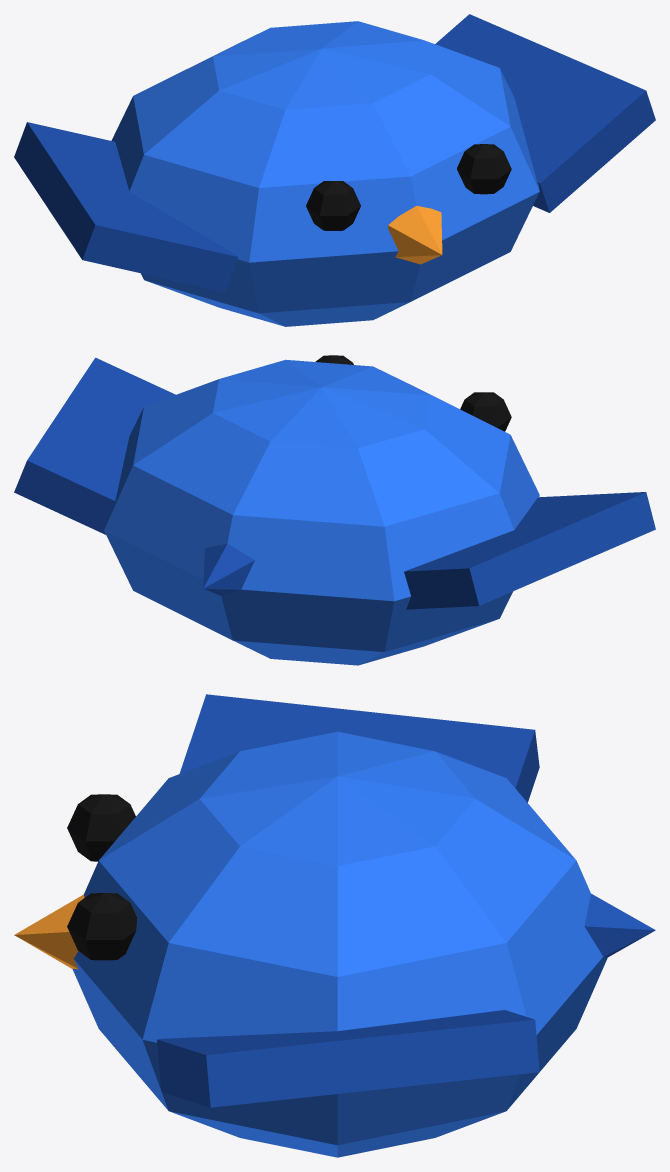
The model's file is passaro.glb.
The picture shows the model from 3 angles, top to bottom: view 1: azimuth 30°, elevation 25°; view 2: azimuth 150°, elevation 25°; view 3: azimuth 270°, elevation 25°; orthographic projection. The views are drawn at different scales.
Parts seen in each view (by area): view 1: body, wing_r, wing_l, beak, eye_l, eye_r; view 2: body, wing_r, wing_l, tail, eye_r; view 3: body, wing_l, wing_r, eye_l, eye_r, tail, beak.
Part boxes in pixels (bbox=[...]): body: bbox=[111, 21, 539, 326]; wing_r: bbox=[14, 122, 238, 291]; wing_l: bbox=[435, 14, 655, 212]; beak: bbox=[388, 206, 442, 264]; eye_l: bbox=[457, 144, 511, 194]; eye_r: bbox=[306, 181, 360, 230]; body: bbox=[104, 359, 539, 665]; wing_r: bbox=[404, 492, 655, 609]; wing_l: bbox=[14, 357, 175, 534]; tail: bbox=[203, 543, 254, 595]; eye_r: bbox=[460, 392, 511, 431]; body: bbox=[72, 731, 607, 1157]; wing_l: bbox=[157, 1010, 539, 1107]; wing_r: bbox=[179, 694, 539, 802]; eye_l: bbox=[67, 893, 136, 960]; eye_r: bbox=[67, 794, 135, 861]; tail: bbox=[584, 893, 655, 957]; beak: bbox=[14, 894, 84, 969].
Bounding box in the file's own units: 0.8378 × 0.35 × 0.605.
